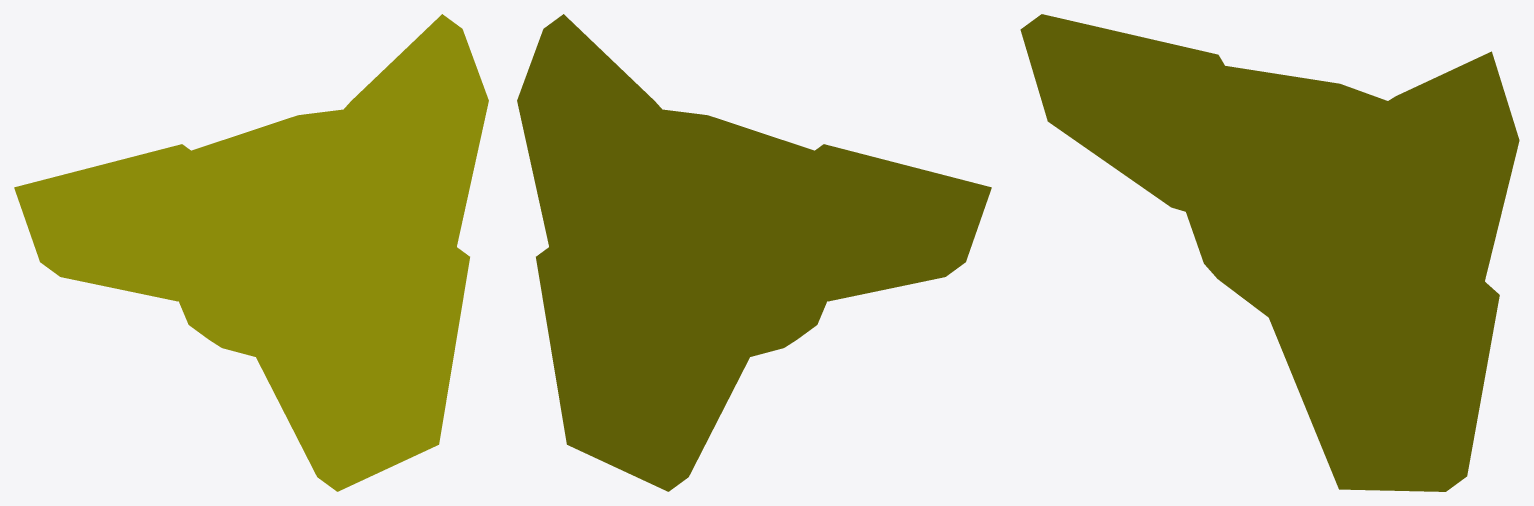
3 views of the same model, side by side, from view 1: azimuth 30°, elevation 25°; view 2: azimuth 150°, elevation 25°; view 3: azimuth 330°, elevation 25° (orthographic). The views are drawn at different scales.
Visible parts, largest first — view 1: RoomFloor0, RoomWall0; view 2: RoomFloor0, RoomWall0; view 3: RoomFloor0, RoomWall0.
Part boxes in pixels (x1,y1,x2,y2): RoomFloor0: (34,29,488,491); RoomWall0: (14,14,469,491); RoomFloor0: (537,50,964,466); RoomWall0: (517,14,991,491); RoomFloor0: (1020,29,1497,491); RoomWall0: (1021,14,1519,491).
Size of what is drawn, in the model's own units: 6.47 by 5.88 by 0.5.
